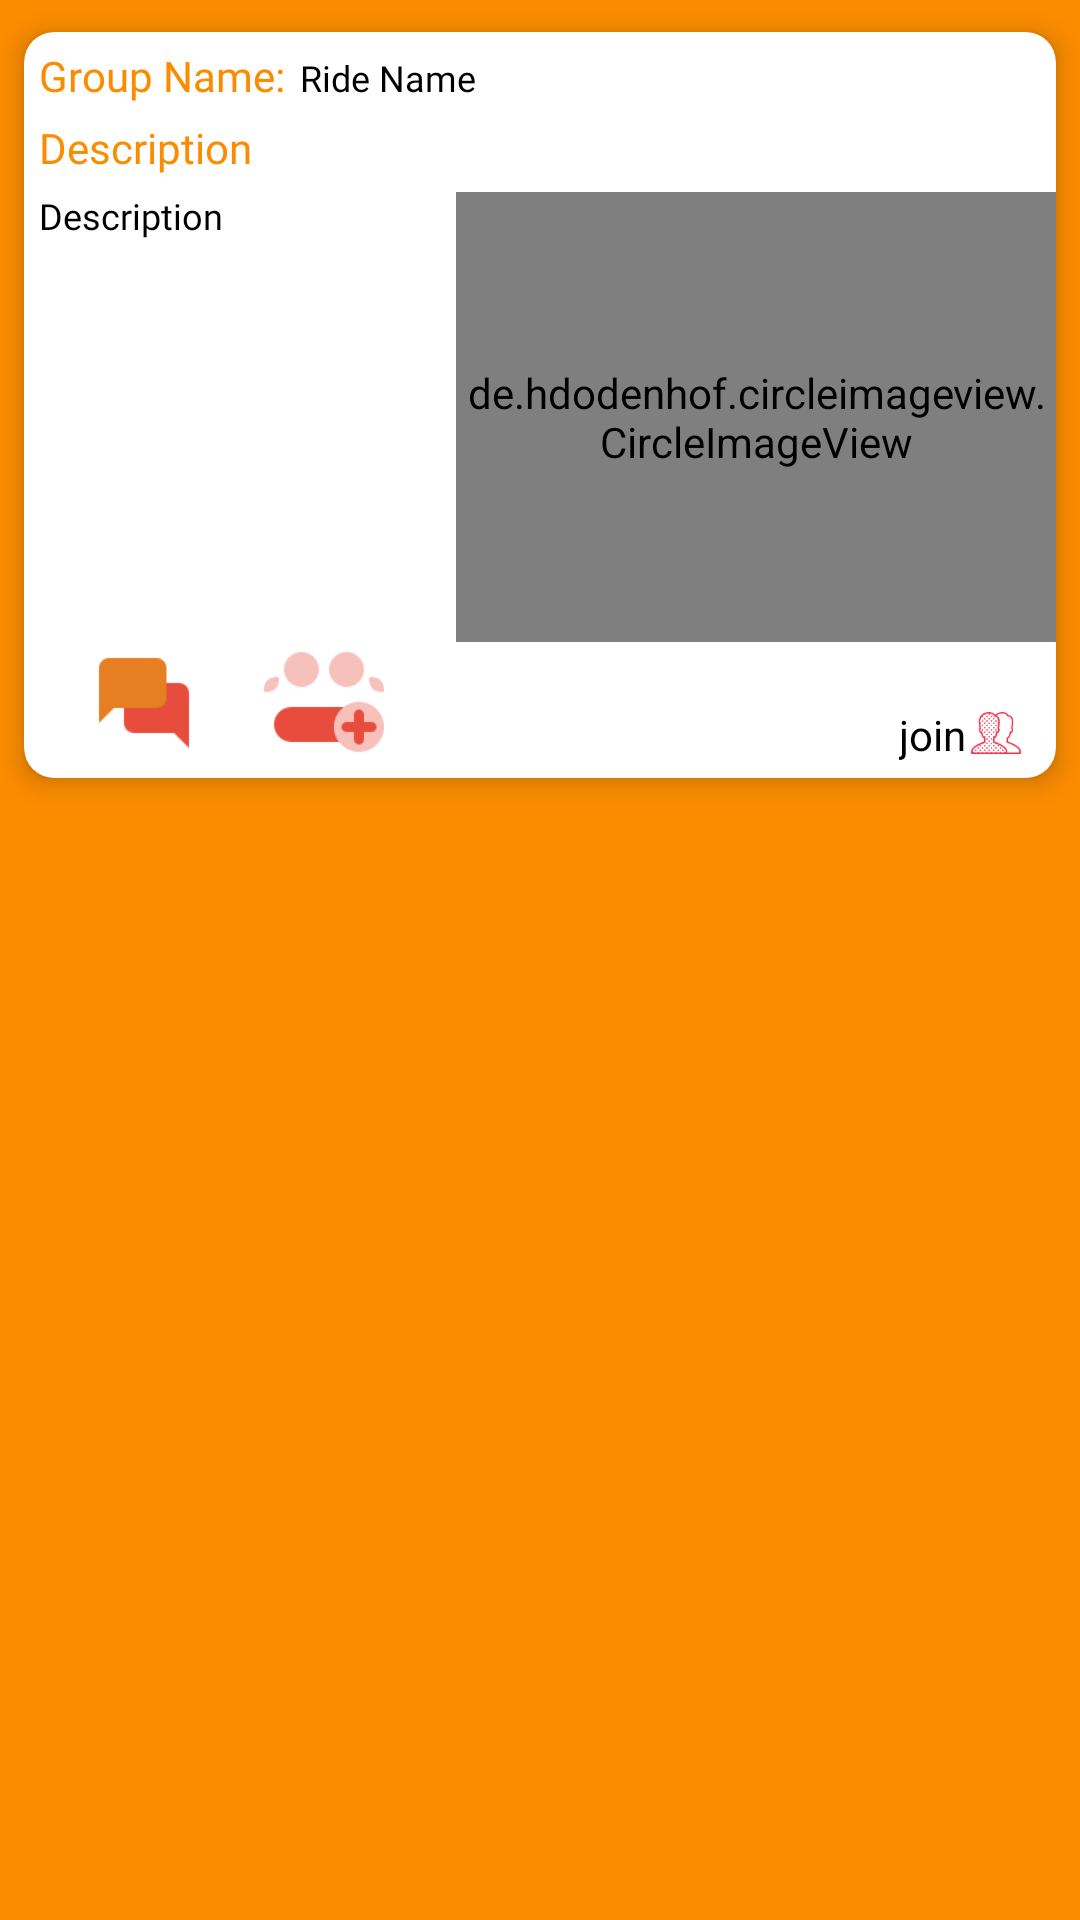

Locate icon controls on the screen. Image size 1080px x 1920px, boxes as (x1, y1, x2, y2).
chat: (99, 658, 189, 748)
